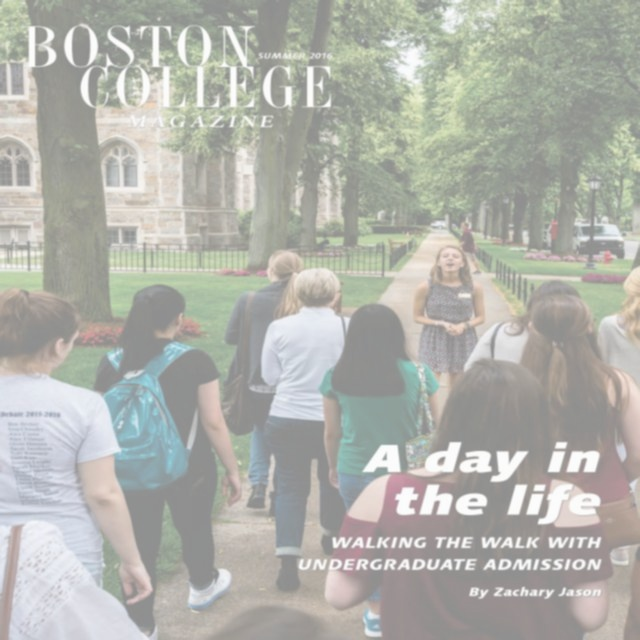pessoa: (318, 343, 622, 640), (88, 282, 244, 638), (323, 302, 441, 640), (518, 292, 640, 554), (258, 266, 354, 594), (87, 282, 166, 640), (218, 248, 304, 518), (408, 240, 492, 437), (594, 264, 640, 568), (459, 276, 586, 381), (458, 222, 482, 276)
